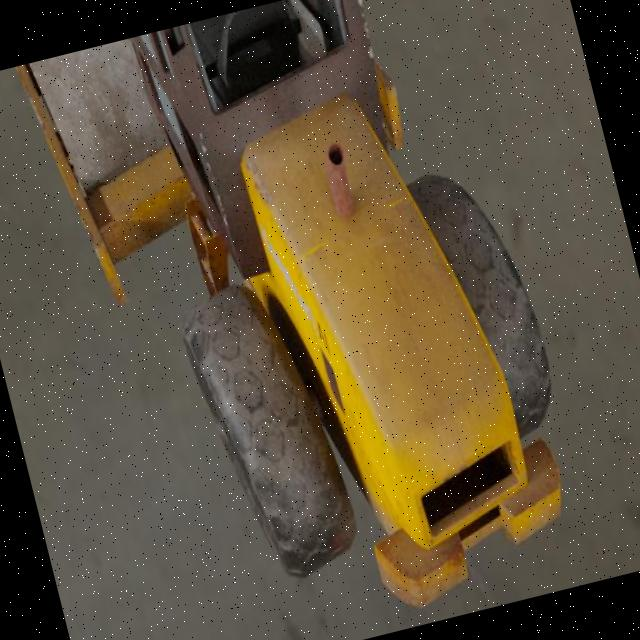Roller: (11, 0, 598, 640)
